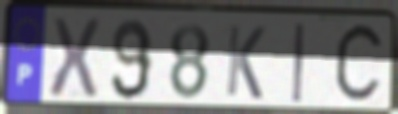8: (166, 19, 213, 103)
9: (109, 16, 154, 103)
C: (332, 19, 388, 110)
I: (291, 21, 307, 106)
K: (224, 22, 268, 103)
X: (46, 15, 102, 102)
